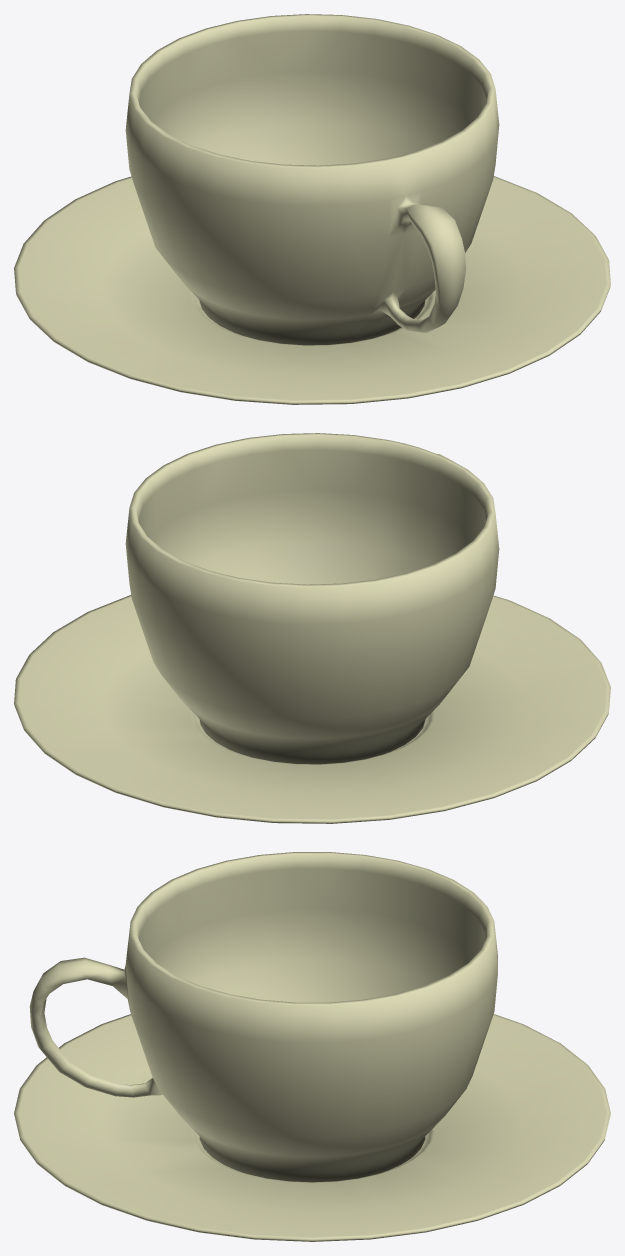
Rendered from cup.dae.
3 renders of one model, top to bottom at view 1: azimuth 30°, elevation 25°; view 2: azimuth 150°, elevation 25°; view 3: azimuth 270°, elevation 25°, orthographic.
Visible parts, largest first — view 1: Circle; view 2: Circle; view 3: Circle.
Boxes of the visible parts, x1,y1,x2,y2 form: Circle: (14, 14, 610, 404); Circle: (14, 433, 610, 823); Circle: (14, 852, 610, 1241).
Size of the model in its own units: 0.1401 by 0.1401 by 0.0585.
